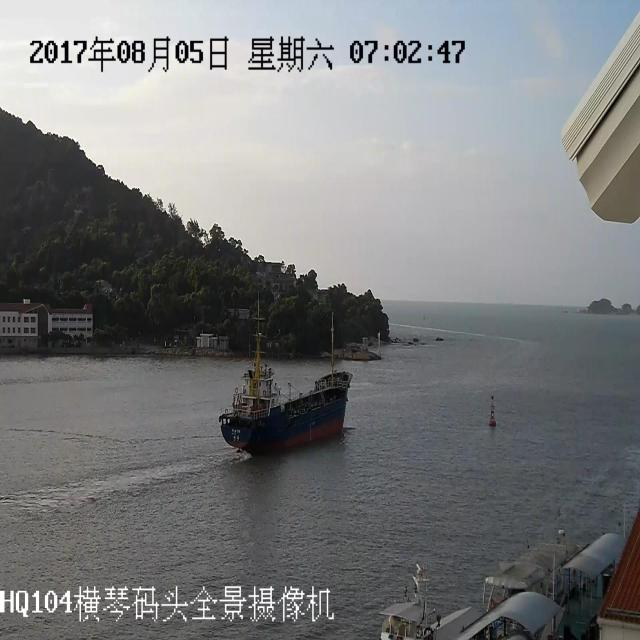buoy: (480, 390, 503, 427)
fishing boat: (200, 289, 351, 446)
